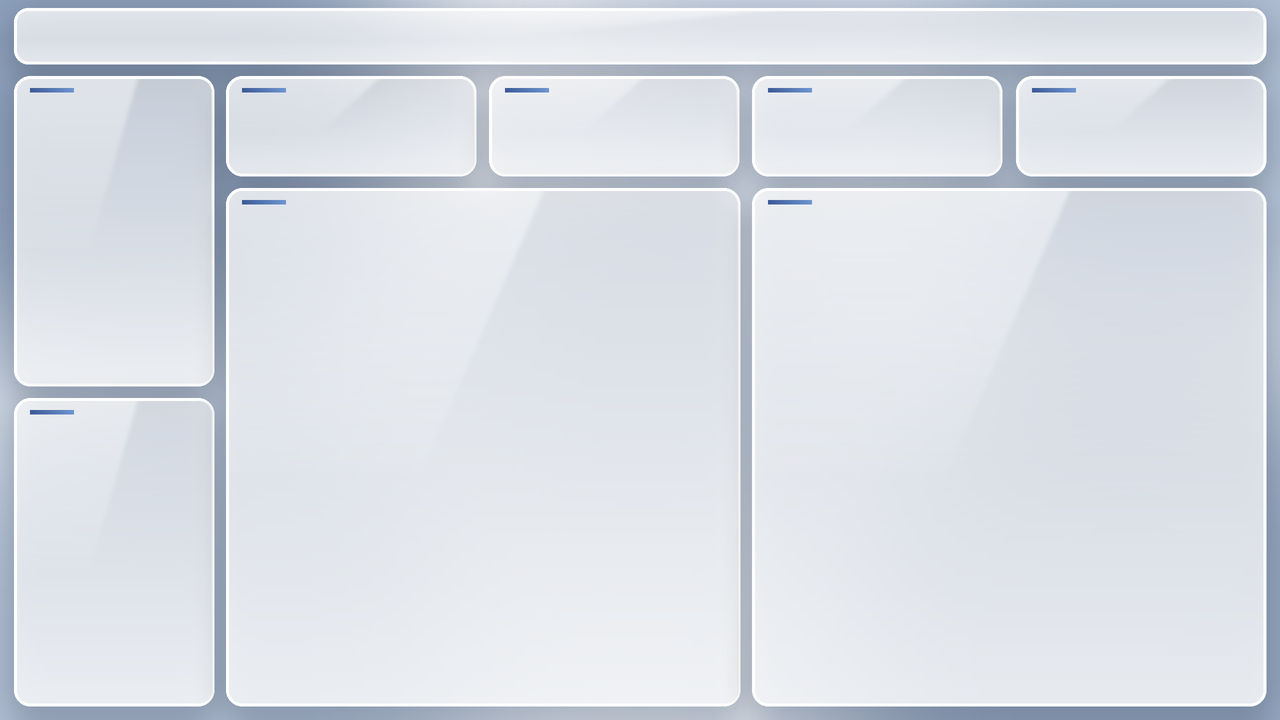

This screenshot's page, from the dashboard's own definition file:
{"tool":"powerbi","page":{"name":"Dashboard","canvas":[1920,1080],"ordinal":0},"visuals":[{"type":"cardVisual","fields":{"Data":["Sum(Sample - Superstore.Sales)"]},"box":[432,128,240,128],"z":0,"group":"g1"},{"type":"clusteredBarChart","title":"Total Sales Per Category","fields":{"Category":["Sample - Superstore.Category"],"Y":["Sum(Sample - Superstore.Sales)"]},"box":[336,272,784,784],"z":0},{"type":"cardVisual","fields":{"Data":["Sum(Sample - Superstore.Profit)"]},"box":[816,128,240,128],"z":1000,"group":"g2"},{"type":"clusteredColumnChart","title":"Total Profit Per Region","fields":{"Category":["Sample - Superstore.Region"],"Y":["Sum(Sample - Superstore.Profit)"]},"box":[1120,272,800,784],"z":1000},{"type":"cardVisual","fields":{"Data":["Sum(Sample - Superstore.Quantity)"]},"box":[1216,128,272,112],"z":2000,"group":"g3"},{"type":"advancedSlicerVisual","fields":{"Values":["Sample - Superstore.Region"]},"box":[32,144,272,416],"z":2000},{"type":"cardVisual","fields":{"Data":["Avg(Sample - Superstore.Discount)"]},"box":[1616,112,272,144],"z":3000,"group":"g4"},{"type":"advancedSlicerVisual","fields":{"Values":["Sample - Superstore.Category"]},"box":[32,624,272,416],"z":3000},{"type":"textbox","box":[608,16,688,64],"z":4000,"group":"g5"},{"type":"group","id":"g1","title":"Group 1","box":[368,128,304,128],"z":5000},{"type":"group","id":"g2","title":"Group 2","box":[736,128,320,128],"z":6000},{"type":"image","box":[368,144,80,96],"z":6003,"group":"g1"},{"type":"image","box":[736,160,112,80],"z":6005,"group":"g2"},{"type":"image","box":[1120,144,144,96],"z":6007,"group":"g3"},{"type":"image","box":[1520,160,144,80],"z":6009,"group":"g4"},{"type":"group","id":"g3","title":"Group 3","box":[1120,128,368,112],"z":7000},{"type":"group","id":"g4","title":"Group 4","box":[1520,112,368,144],"z":8000},{"type":"image","box":[432,16,208,80],"z":9000,"group":"g5"},{"type":"group","id":"g5","title":"Group 5","box":[432,16,864,80],"z":9001}]}

Visuals, with their boxes in screenshot pixels (x1, y1, x2, y2), scaled from the page's 1920x1080 canvas onto the 1280x720 screenshot:
cardVisual - Sum(Sample - Superstore.Sales): (288,85,448,171)
"Total Sales Per Category" clusteredBarChart: (224,181,747,704)
cardVisual - Sum(Sample - Superstore.Profit): (544,85,704,171)
"Total Profit Per Region" clusteredColumnChart: (747,181,1279,704)
cardVisual - Sum(Sample - Superstore.Quantity): (811,85,992,160)
advancedSlicerVisual - Sample - Superstore.Region: (21,96,203,373)
cardVisual - Avg(Sample - Superstore.Discount): (1077,75,1259,171)
advancedSlicerVisual - Sample - Superstore.Category: (21,416,203,693)
textbox: (405,11,864,53)
"Group 1" group: (245,85,448,171)
"Group 2" group: (491,85,704,171)
image: (245,96,299,160)
image: (491,107,565,160)
image: (747,96,843,160)
image: (1013,107,1109,160)
"Group 3" group: (747,85,992,160)
"Group 4" group: (1013,75,1259,171)
image: (288,11,427,64)
"Group 5" group: (288,11,864,64)
